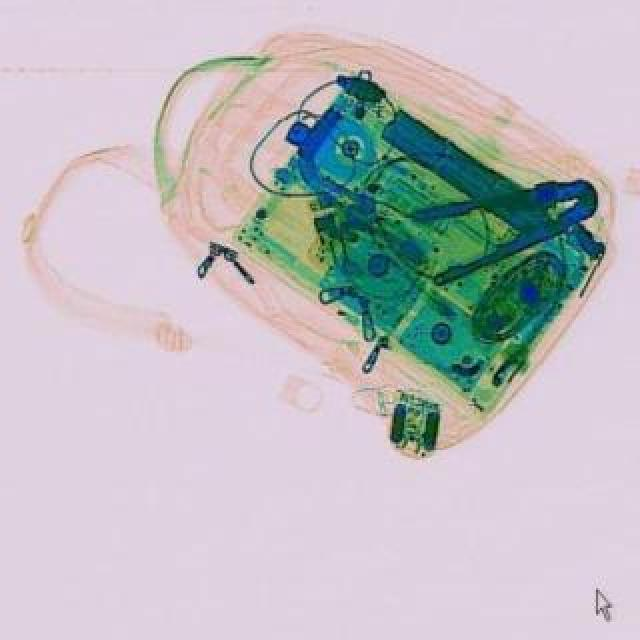wrench: (402, 154, 610, 288)
